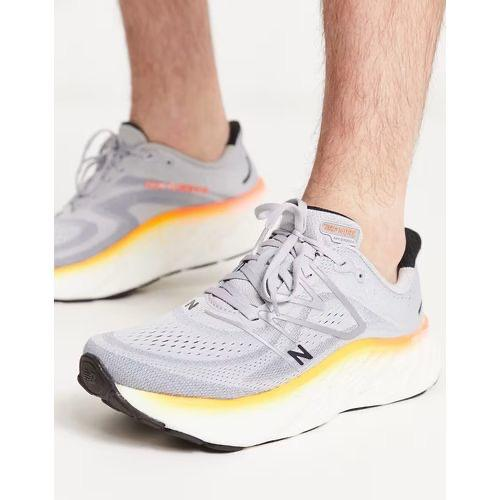NB logo: (229, 256, 379, 383)
